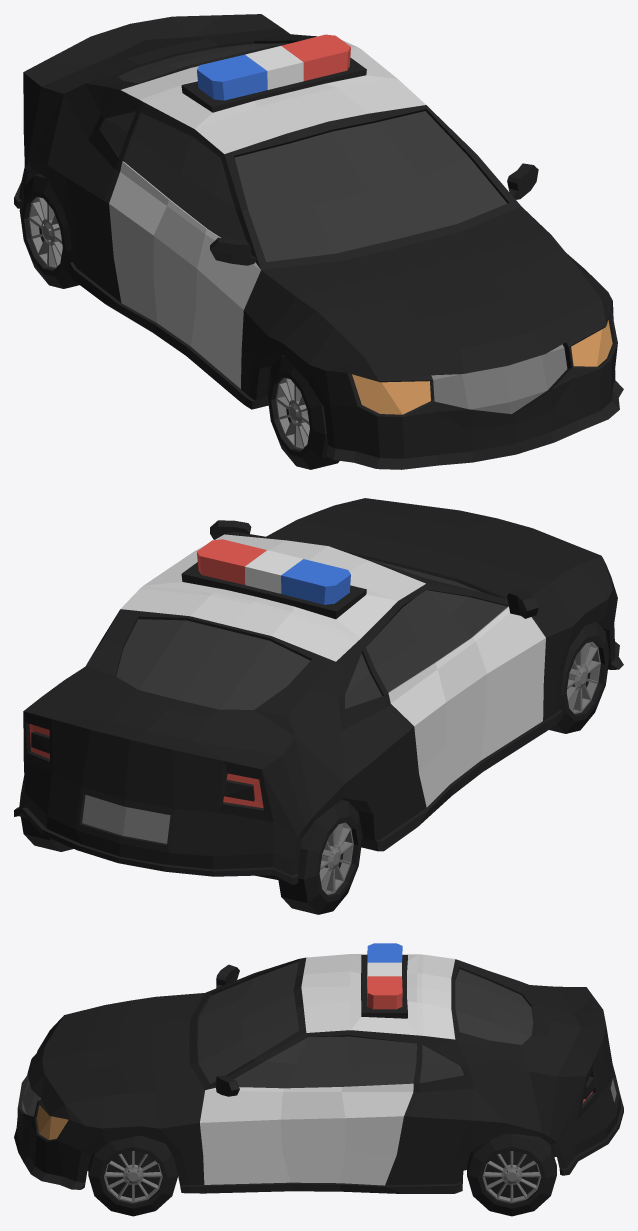
Rendered from Cop_Car.fbx.
The picture shows the model from 3 angles, top to bottom: view 1: azimuth 30°, elevation 25°; view 2: azimuth 150°, elevation 25°; view 3: azimuth 270°, elevation 25°; orthographic projection. The views are drawn at different scales.
Parts seen in each view (by area): view 1: Cop, Cop_FrontRightWheel, Cop_BackRightWheel; view 2: Cop, Cop_BackRightWheel, Cop_FrontRightWheel, Cop_BackLeftWheel; view 3: Cop, Cop_BackLeftWheel, Cop_FrontLeftWheel.
Boxes of the visible parts, x1=… form: Cop: x1=14, y1=14, x2=623, y2=469; Cop_FrontRightWheel: x1=267, y1=355, x2=339, y2=469; Cop_BackRightWheel: x1=19, y1=174, x2=79, y2=288; Cop: x1=14, y1=498, x2=623, y2=884; Cop_BackRightWheel: x1=278, y1=800, x2=362, y2=914; Cop_FrontRightWheel: x1=549, y1=622, x2=609, y2=733; Cop_BackLeftWheel: x1=21, y1=817, x2=73, y2=851; Cop: x1=14, y1=943, x2=623, y2=1193; Cop_BackLeftWheel: x1=467, y1=1133, x2=556, y2=1216; Cop_FrontLeftWheel: x1=88, y1=1135, x2=177, y2=1216.
Size of the model in its own units: 178 by 131 by 373.
